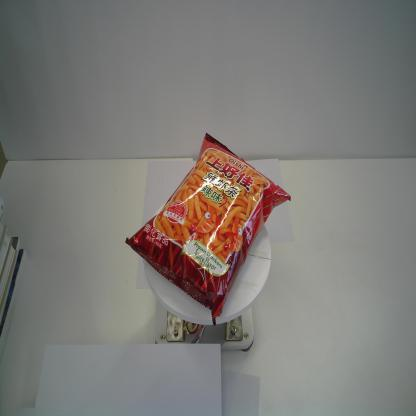Puffed Food: (124, 132, 292, 326)
